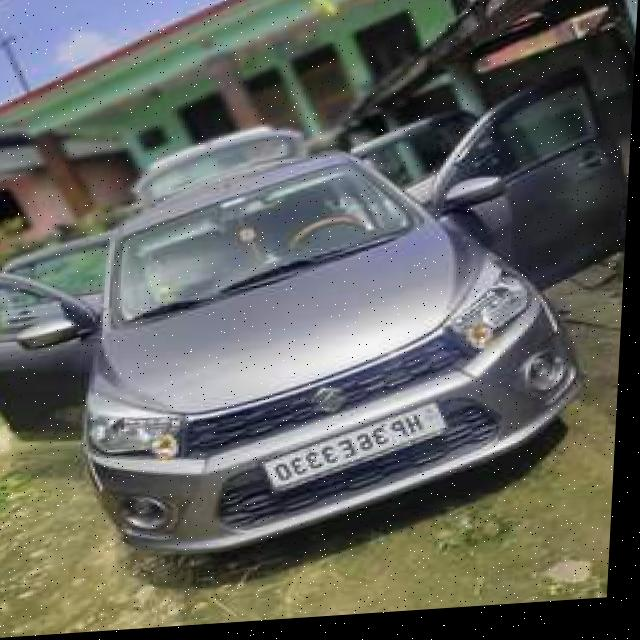plate: (265, 409, 453, 501)
